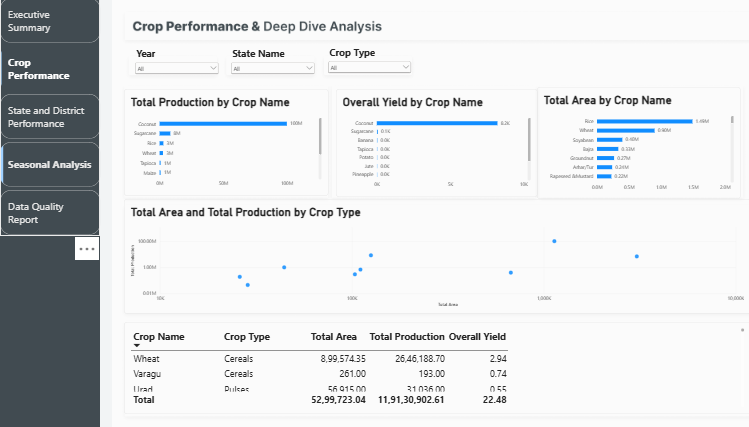

The page's visual inventory and layout, read from the dashboard file:
{"tool":"powerbi","page":{"name":"Crop Performance","canvas":[1920,1080],"ordinal":1},"visuals":[{"type":"barChart","fields":{"Category":["agriculture_cleaned_data.Crop Name"],"Y":["agriculture_cleaned_data.Total Production"]},"box":[309.9,226.8,511.5,267.1],"z":0},{"type":"barChart","fields":{"Category":["agriculture_cleaned_data.Crop Name"],"Y":["agriculture_cleaned_data.Overall Yield"]},"box":[839.1,226.8,503.9,269.6],"z":1000},{"type":"barChart","fields":{"Category":["agriculture_cleaned_data.Crop Name"],"Y":["agriculture_cleaned_data.Total Area"]},"box":[1343,221.7,509,280],"z":2000},{"type":"scatterChart","fields":{"Category":["agriculture_cleaned_data.Crop Type"],"X":["agriculture_cleaned_data.Total Area"],"Y":["agriculture_cleaned_data.Total Production"]},"box":[309.9,501.4,1567.2,287.2],"z":3000},{"type":"tableEx","fields":{"Values":["agriculture_cleaned_data.Crop Name","agriculture_cleaned_data.Crop Type","agriculture_cleaned_data.Total Area","agriculture_cleaned_data.Total Production","agriculture_cleaned_data.Overall Yield"]},"box":[310,810,1567.5,230],"z":4000},{"type":"pageNavigator","box":[0,0,251.2,595.3],"z":5000},{"type":"slicer","fields":{"Values":["agriculture_cleaned_data.Year"]},"box":[332.6,121.7,218.6,93],"z":6000},{"type":"slicer","fields":{"Values":["agriculture_cleaned_data.State Name"]},"box":[572.1,121.7,218.6,93],"z":7000},{"type":"slicer","fields":{"Values":["agriculture_cleaned_data.Crop Type"]},"box":[815,120,217.5,92.5],"z":8000}]}

Visuals, with their boxes on the page's 1920x1080 design canvas (x1, y1, x2, y2). These are canvas units, not pixel positions in the 749x427 screenshot, which may show the page scaled, cropped or inside an application window:
barChart - agriculture_cleaned_data.Crop Name x agriculture_cleaned_data.Total Production: x1=310 y1=227 x2=821 y2=494
barChart - agriculture_cleaned_data.Crop Name x agriculture_cleaned_data.Overall Yield: x1=839 y1=227 x2=1343 y2=496
barChart - agriculture_cleaned_data.Crop Name x agriculture_cleaned_data.Total Area: x1=1343 y1=222 x2=1852 y2=502
scatterChart - agriculture_cleaned_data.Crop Type x agriculture_cleaned_data.Total Area: x1=310 y1=501 x2=1877 y2=789
tableEx - agriculture_cleaned_data.Crop Name x agriculture_cleaned_data.Crop Type: x1=310 y1=810 x2=1878 y2=1040
pageNavigator: x1=0 y1=0 x2=251 y2=595
slicer - agriculture_cleaned_data.Year: x1=333 y1=122 x2=551 y2=215
slicer - agriculture_cleaned_data.State Name: x1=572 y1=122 x2=791 y2=215
slicer - agriculture_cleaned_data.Crop Type: x1=815 y1=120 x2=1032 y2=212
